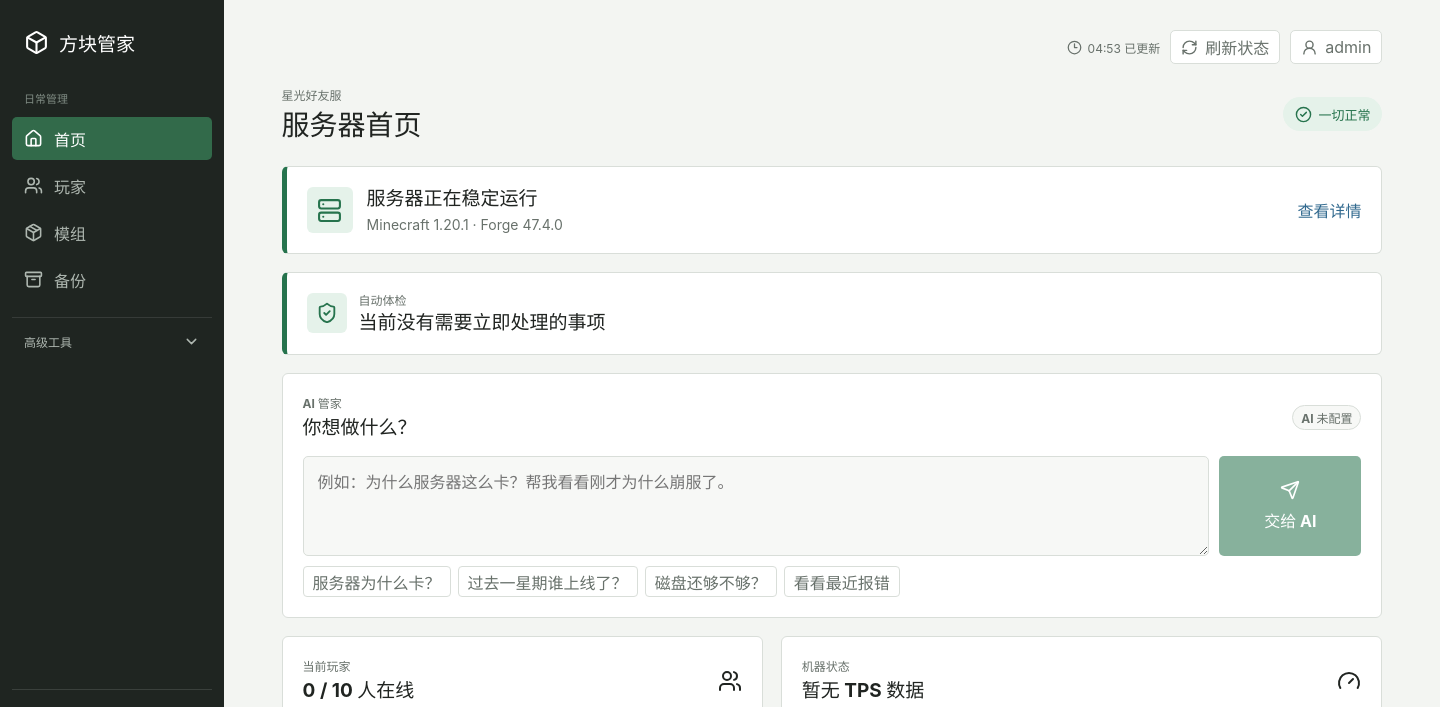
App authentication lifecycle › removes stale dashboard data and returns to login when the session expires
Expected: the heading "服务器首页" is shown, [282, 108, 422, 142]
Click the button with class "nav-item" showing "首页". click: (112, 138)
box: [12, 117, 212, 160]
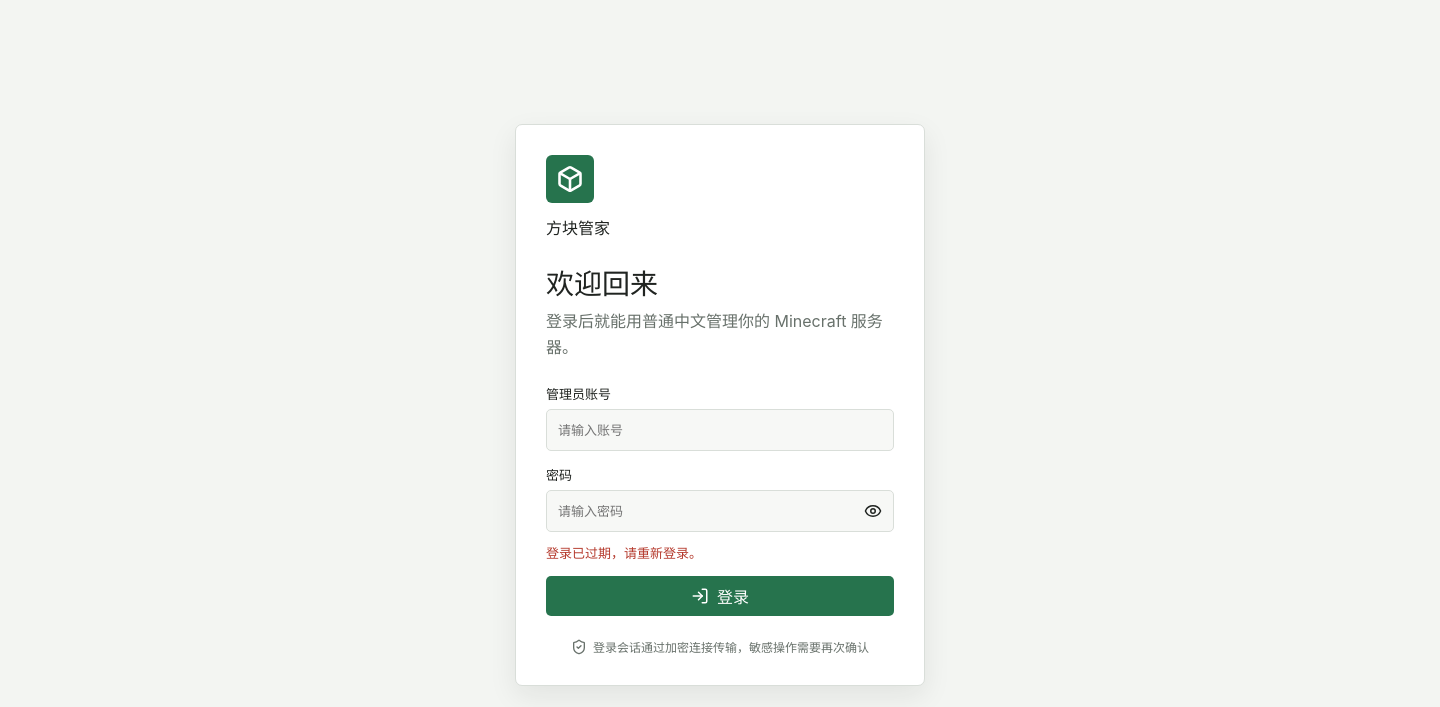
Expected: the button "登录" is shown, [546, 576, 894, 616]
Expected: the text "登录已过期，请重新登录。" is shown, [546, 545, 702, 561]
Expected: the heading "服务器首页" is gone
